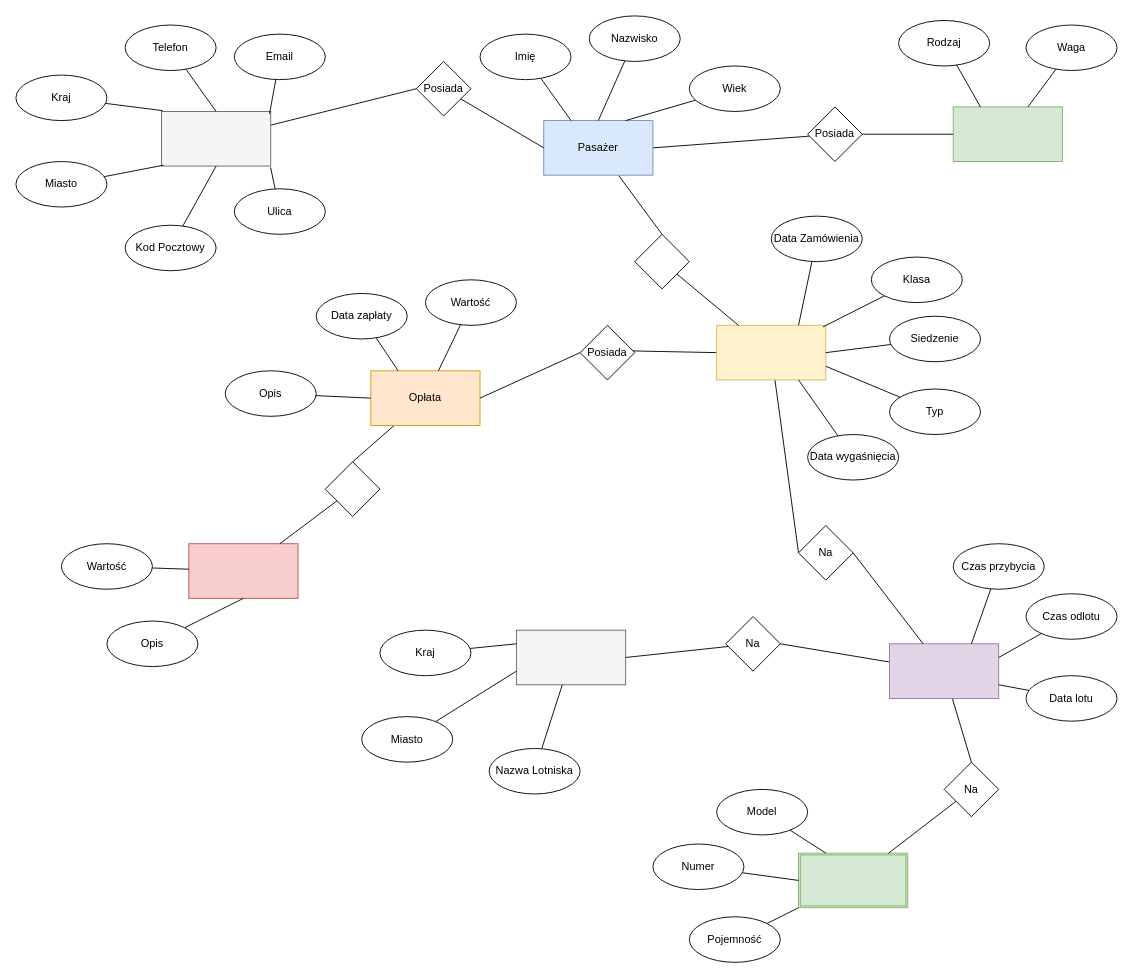
Some shapes in this 1133 by 978 pixel diagram are drawn without their labels. The shapes that lost their labels are listed below. From the top down, each one's centre as x and y in pixels, then its label:
At point (216, 138): "Dane Kontaktowe".
At point (1007, 134): "Bagaż".
At point (661, 261): "Kupuje".
At point (771, 352): "Bilet".
At point (352, 488): "Może mieć".
At point (243, 570): "Zniżka".
At point (571, 657): "Trasa".
At point (944, 670): "Lot".
At point (853, 880): "Samolot".
